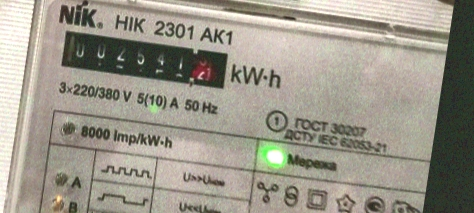0: (72, 37, 88, 59), (93, 38, 108, 60)
1: (173, 48, 187, 72)
2: (112, 40, 129, 64)
4: (153, 45, 167, 67)
5: (132, 43, 148, 68)
6: (194, 67, 206, 81)
screen: (46, 17, 241, 99)
